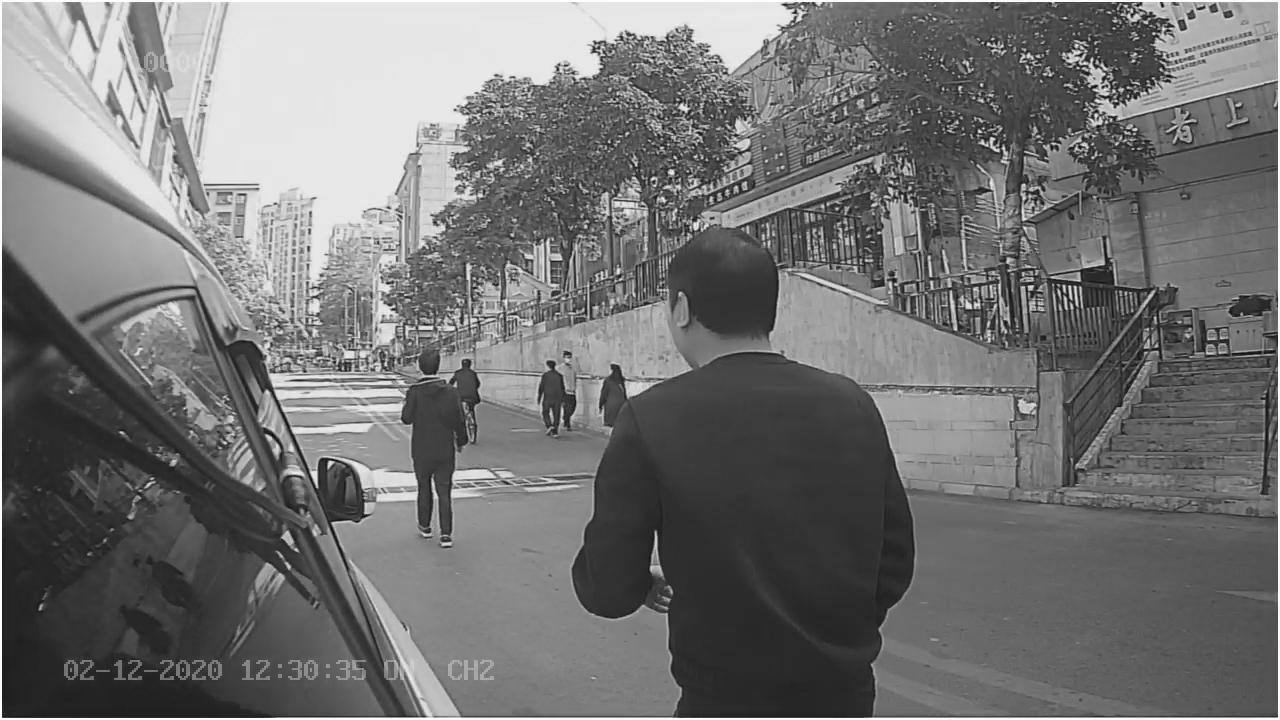person: (583, 218, 910, 525)
